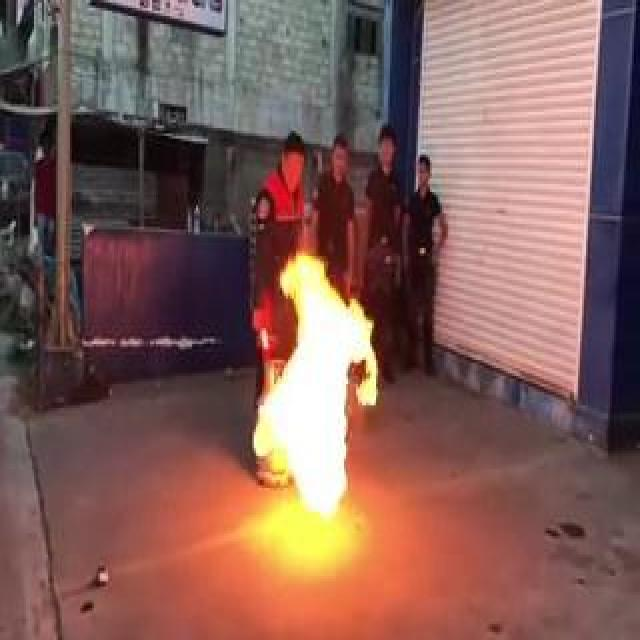Fire: (252, 248, 360, 499)
